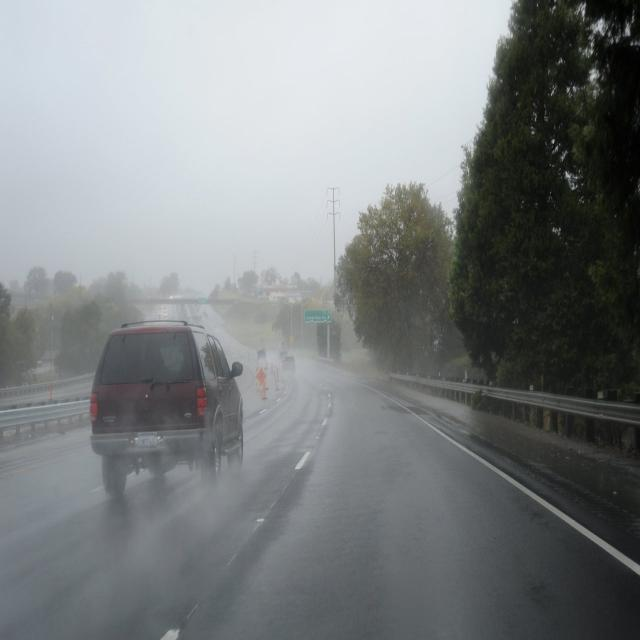car: (88, 317, 244, 494), (280, 356, 296, 374)
